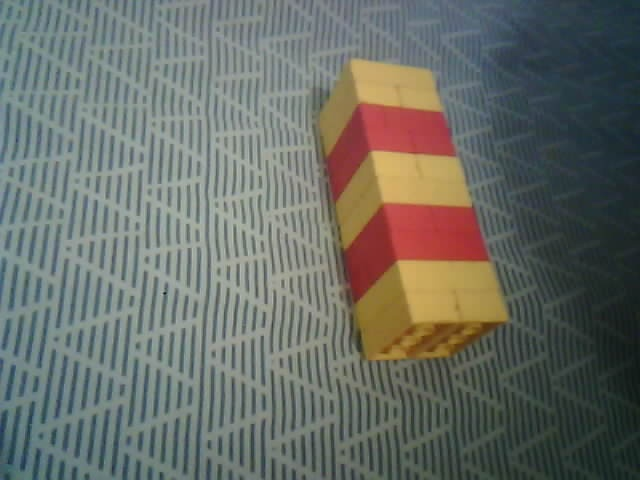lego: (313, 56, 510, 363)
